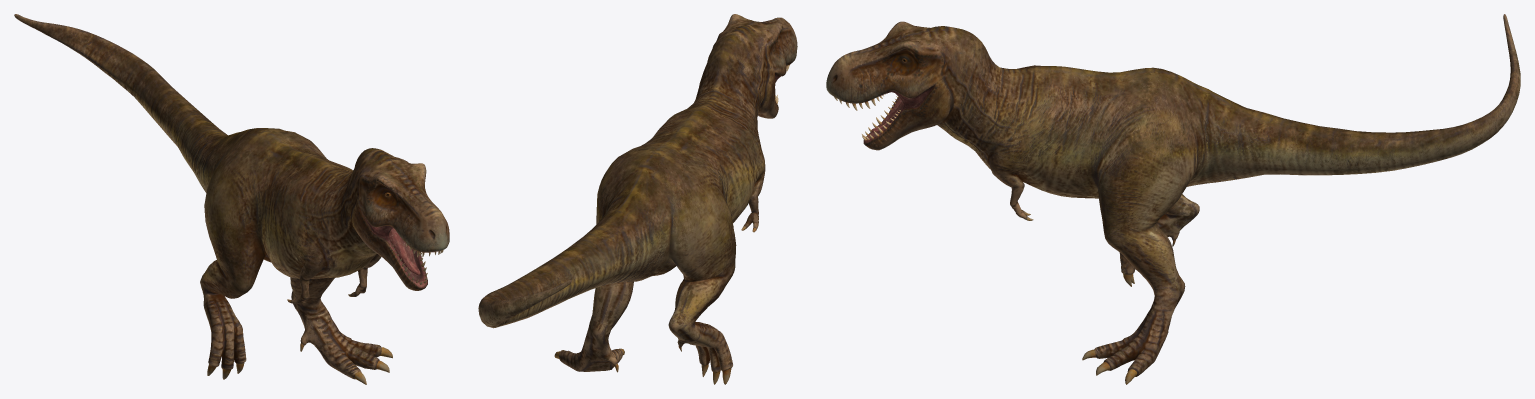
File: trex.glb
3 renders of one model, left to right at view 1: azimuth 30°, elevation 25°; view 2: azimuth 150°, elevation 25°; view 3: azimuth 270°, elevation 25°, orthographic. The views are drawn at different scales.
Visible parts, largest first — view 1: trex; view 2: trex; view 3: trex.
Part boxes in pixels (box(x1,y1,x2,y2)): trex: box(14, 14, 449, 384); trex: box(478, 14, 797, 384); trex: box(826, 14, 1520, 384).
Size of the model in its own units: 2.75 by 3.91 by 8.02.
1 material, 1 textured.
